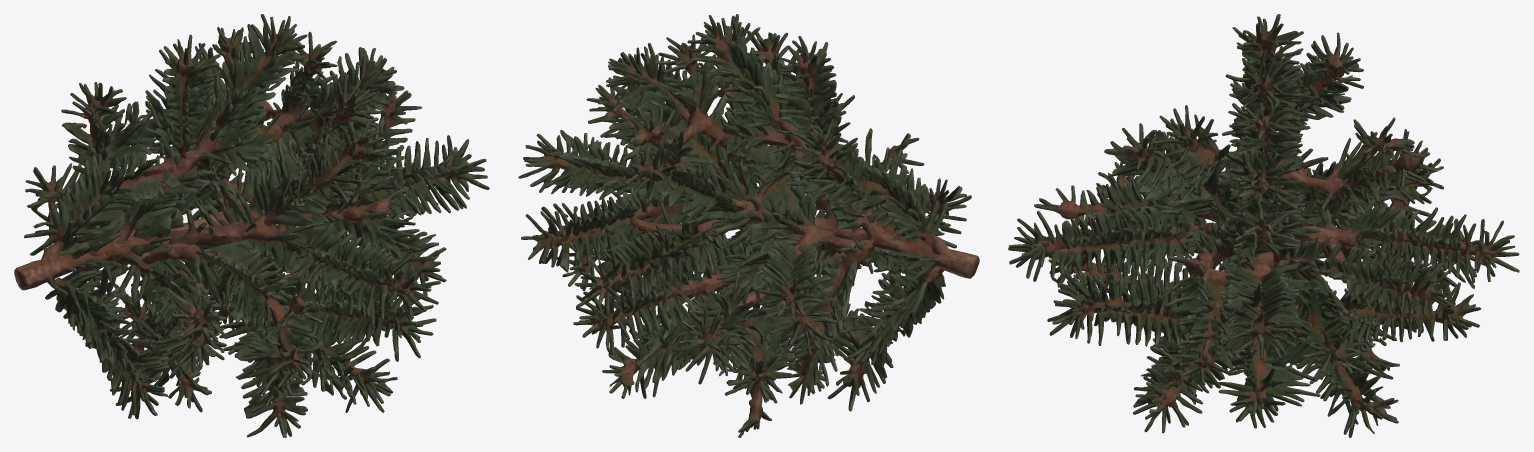
File: spruce-branch-cluster-v21.glb
The picture shows the model from 3 angles, left to right: view 1: azimuth 30°, elevation 25°; view 2: azimuth 150°, elevation 25°; view 3: azimuth 270°, elevation 25°; orthographic projection. The views are drawn at different scales.
Visible parts, largest first — view 1: geometry_0; view 2: geometry_0; view 3: geometry_0.
Part boxes in pixels (x1,y1,x2,y2): geometry_0: [14, 14, 489, 437]; geometry_0: [518, 14, 979, 437]; geometry_0: [1008, 14, 1519, 437].
Bounding box in the file's own units: 0.4499 × 0.348 × 0.4383.
1 material, 1 textured.
